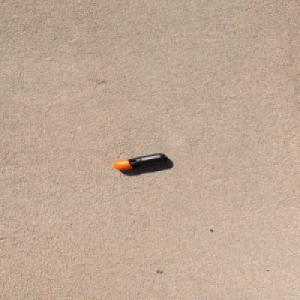PlasticPart: (111, 152, 169, 170)
